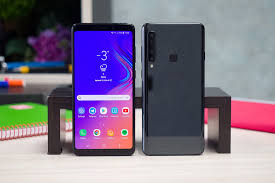samsung: (70, 19, 136, 156)
